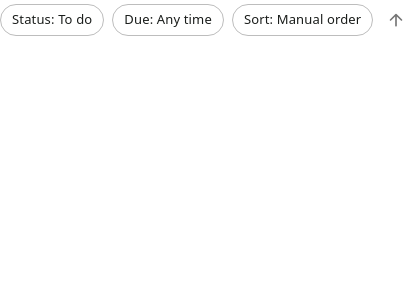
it: FilterBar › offers lapsed as a status of its own
The image size is (420, 285).
Later steps or results of the test are not shown.
Click the button "Status: To do" at (52, 20), box [0,4,104,36]
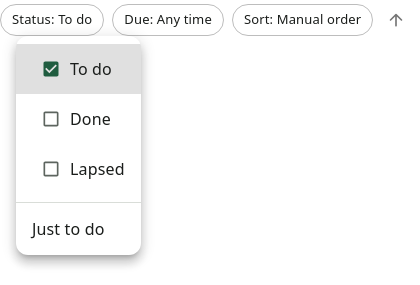
Expected: the menu item "Lapsed" is shown, [41,158,125,180]
